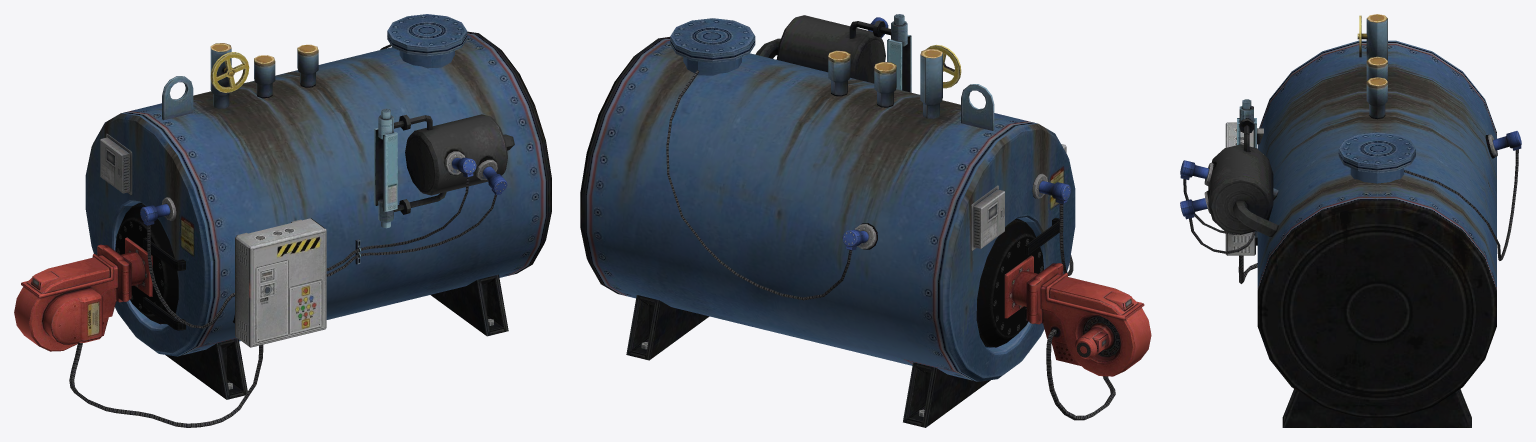
The model's file is Boilers01.glb.
3 views of the same model, side by side, from view 1: azimuth 30°, elevation 25°; view 2: azimuth 150°, elevation 25°; view 3: azimuth 270°, elevation 25° (orthographic). The views are drawn at different scales.
Parts seen in each view (by area): view 1: Boilers01a, Boilers01b; view 2: Boilers01a, Boilers01b; view 3: Boilers01a, Boilers01b.
Boxes of the visible parts, left/top/right/bottom form: Boilers01a: left=85, top=14, right=551, bottom=399; Boilers01b: left=14, top=43, right=514, bottom=427; Boilers01a: left=580, top=18, right=1075, bottom=427; Boilers01b: left=666, top=14, right=1151, bottom=420; Boilers01a: left=1257, top=40, right=1496, bottom=427; Boilers01b: left=1180, top=14, right=1521, bottom=283.
Bounding box in the file's own units: 5.7 × 3.58 × 3.7.
Materials: 2 (2 with a texture image).
